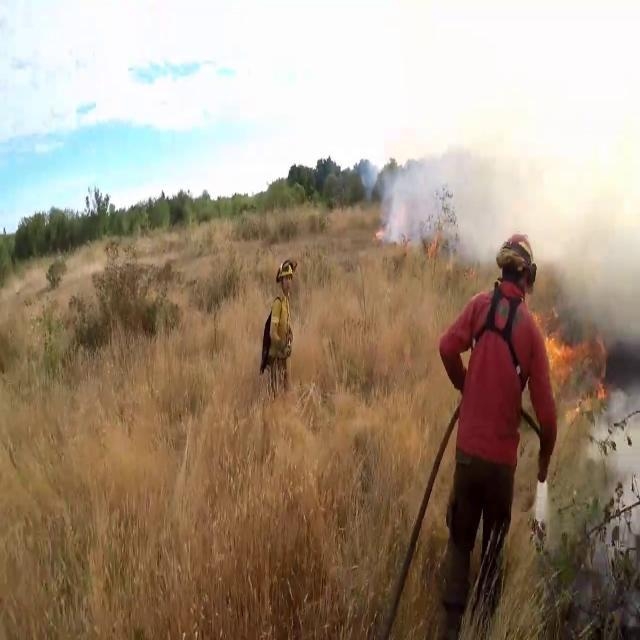Smoke: (383, 1, 640, 291)
